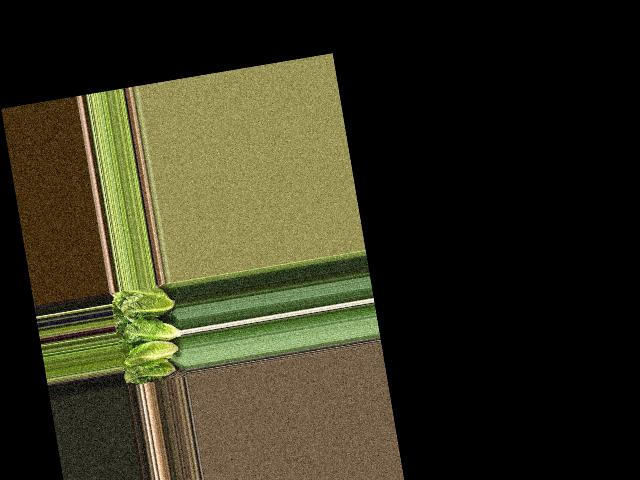lettuce: (122, 359, 174, 382)
